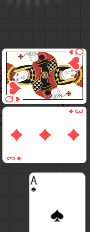3D: (67, 109, 84, 115)
AS: (29, 175, 38, 194)
QH: (8, 67, 32, 93), (62, 32, 86, 58)
